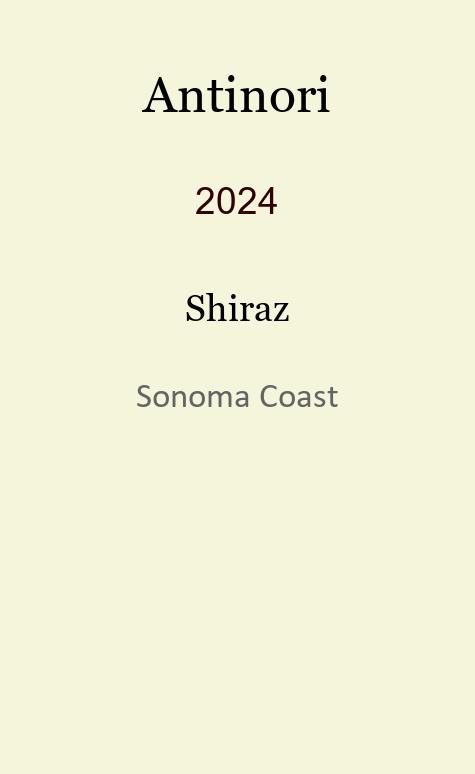brand: (143, 66, 332, 103)
region: (136, 380, 339, 402)
variety: (185, 287, 289, 315)
vintage: (195, 180, 279, 207)
